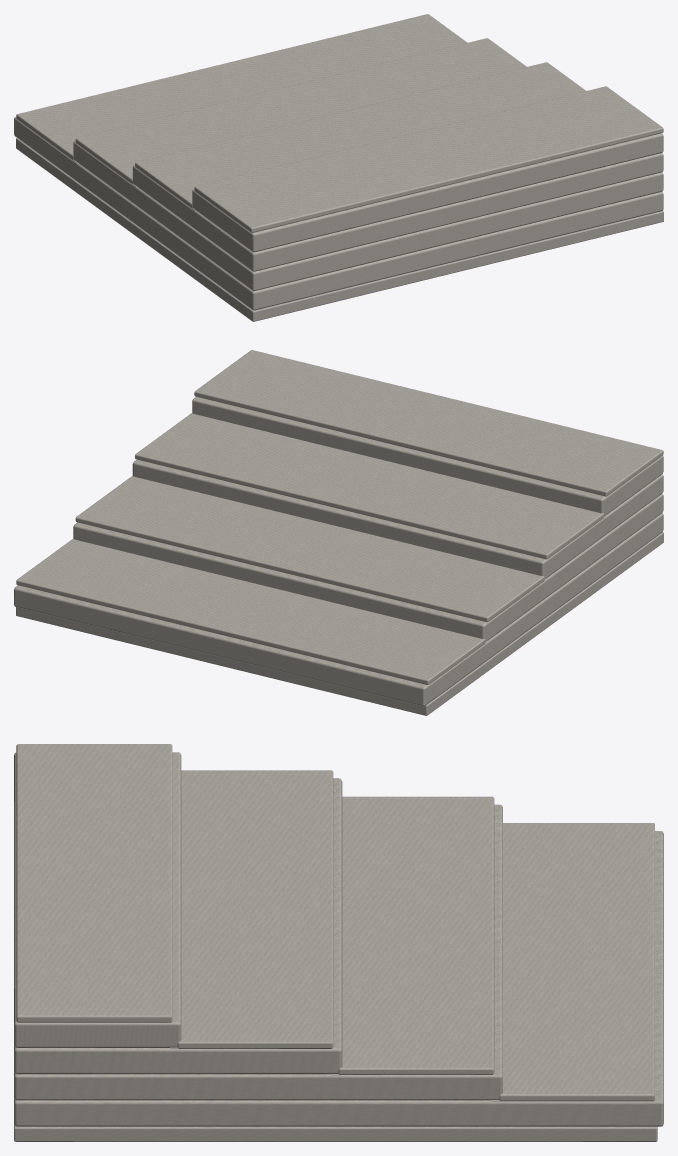
Rendered from greek-island-village-and-harbour-stepped-lane-module-41a86bf4__37081.glb.
3 renders of one model, top to bottom at view 1: azimuth 30°, elevation 25°; view 2: azimuth 150°, elevation 25°; view 3: azimuth 270°, elevation 25°, orthographic. The views are drawn at different scales.
Visible parts, largest first — view 1: stepped-lane-module; view 2: stepped-lane-module; view 3: stepped-lane-module.
Boxes of the visible parts, left/top/right/bottom form: stepped-lane-module: left=14, top=14, right=663, bottom=321; stepped-lane-module: left=14, top=350, right=663, bottom=715; stepped-lane-module: left=14, top=744, right=663, bottom=1141.
Bounding box in the file's own units: 4.01 × 0.87 × 4.04.
2 materials, 2 textured.
